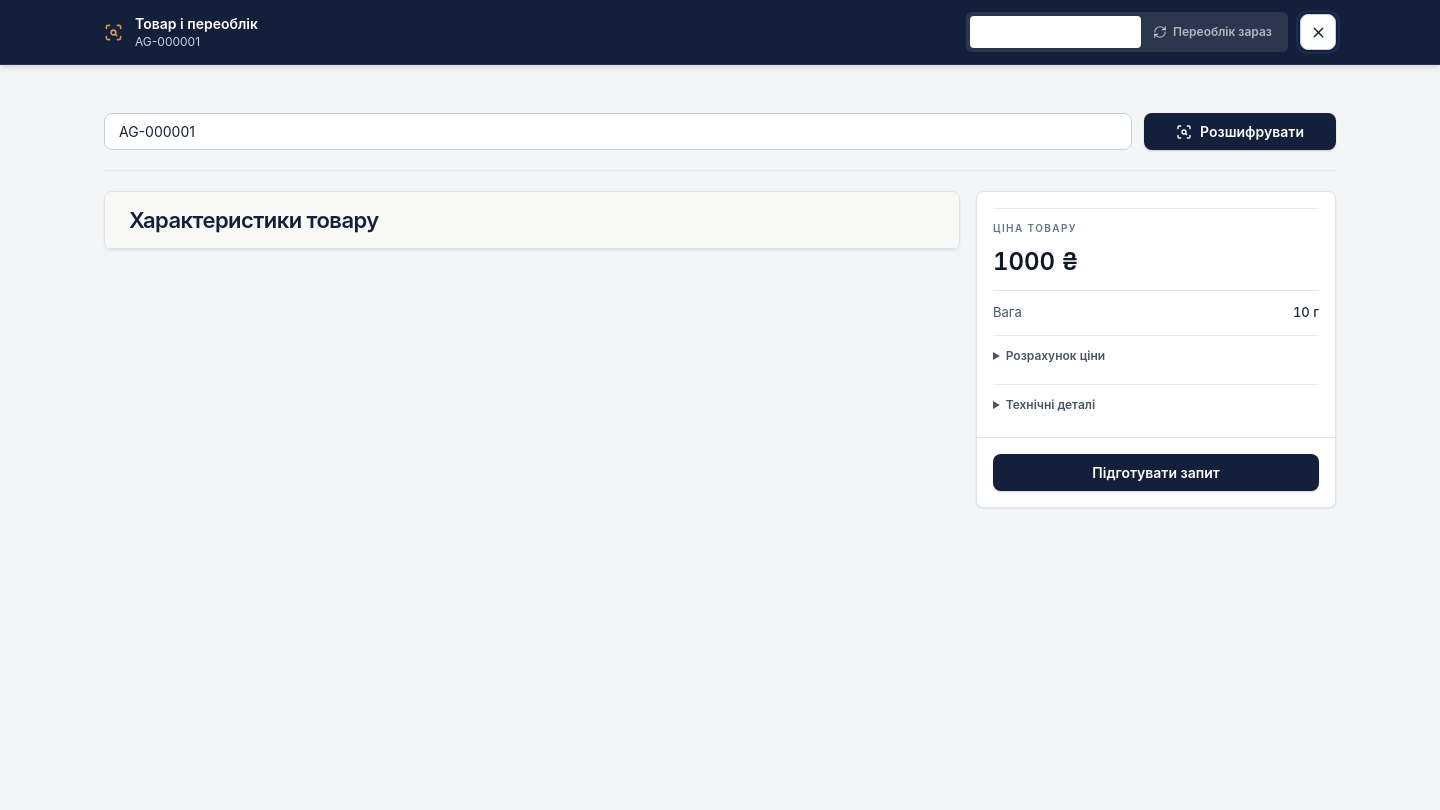
Test case: permitted initial request selects an available action and never submits it on opening
Click the button "Підготувати запит": coordinates (1156, 472) [993, 454, 1319, 490]
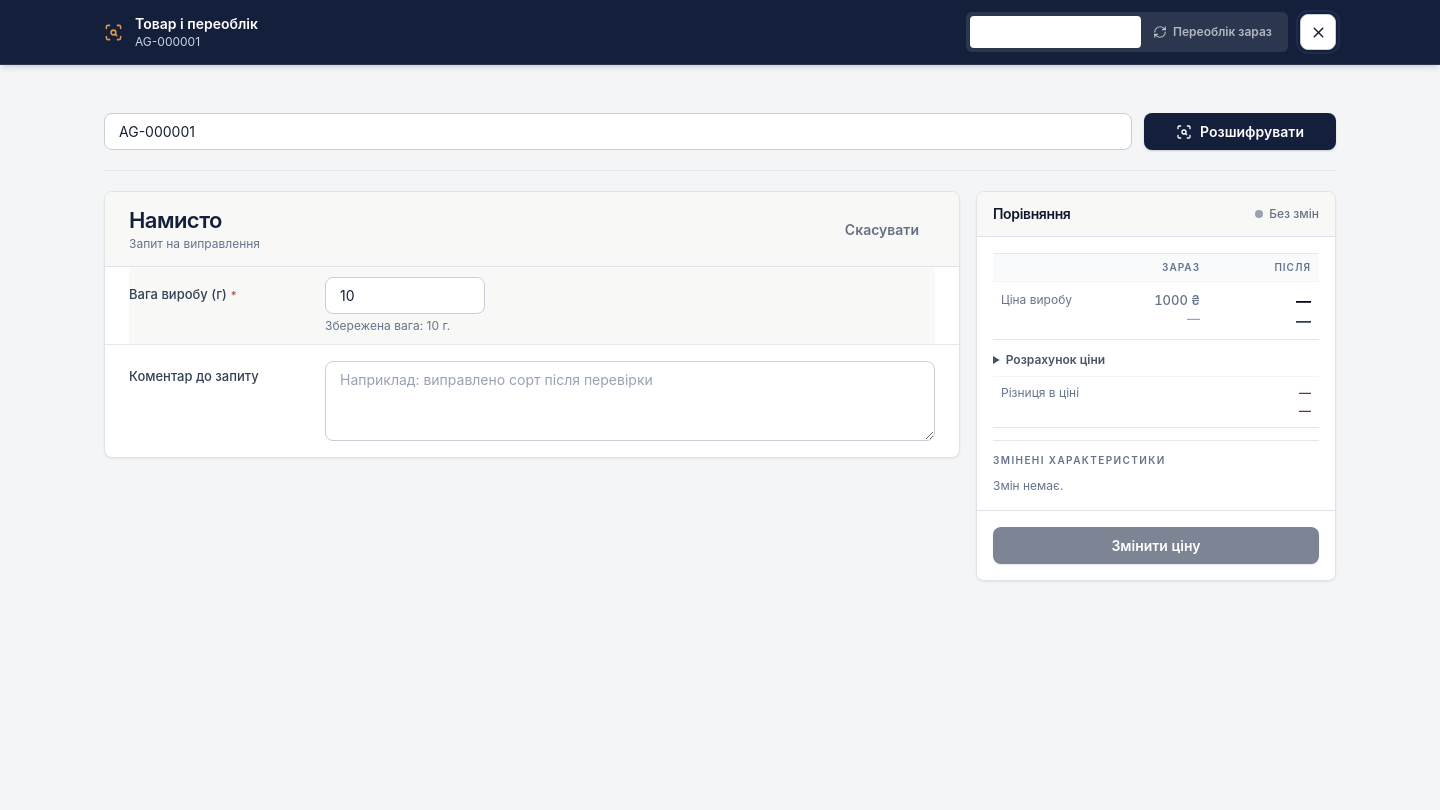
expect the text box labelled "Коментар до запиту" is shown: met, box [325, 361, 935, 441]
